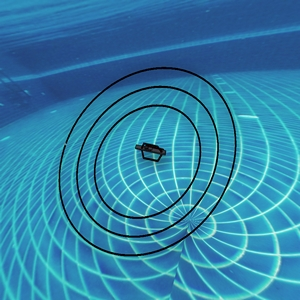circle: (49, 39, 241, 265)
submarine: (135, 138, 165, 163)
